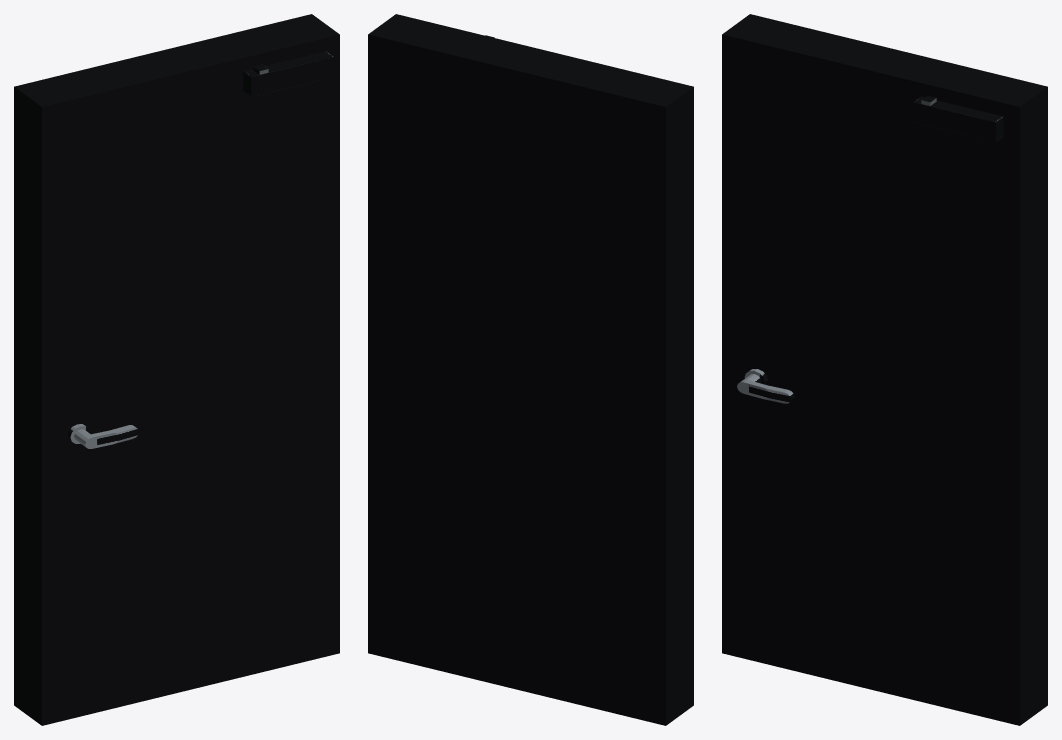
Rendered from Door_Bake.fbx.
The picture shows the model from 3 angles, left to right: view 1: azimuth 30°, elevation 25°; view 2: azimuth 150°, elevation 25°; view 3: azimuth 330°, elevation 25°; orthographic projection.
Visible parts, largest first — view 1: Door_Bake; view 2: Door_Bake; view 3: Door_Bake.
Part boxes in pixels (x1,y1,x2,y2): Door_Bake: [14, 14, 339, 725]; Door_Bake: [368, 14, 693, 725]; Door_Bake: [722, 14, 1047, 725].
Size of the model in its own units: 35.56 by 142 by 283.
Materials: 1 (1 with a texture image).
